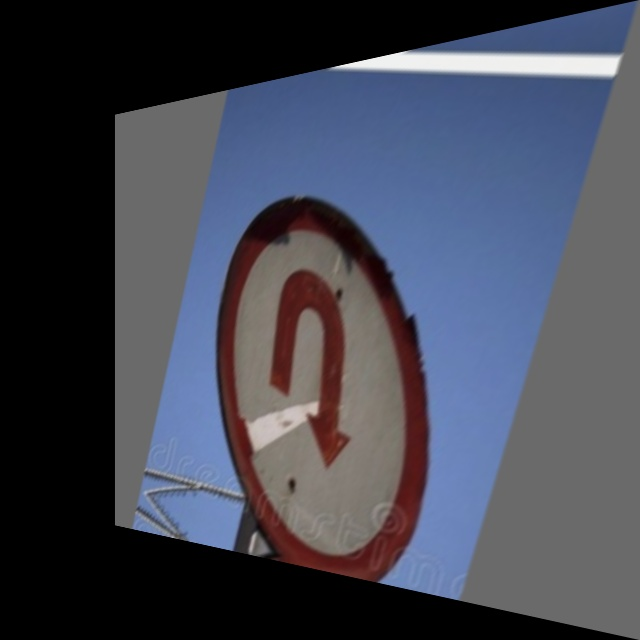U_Turn_Ahead: (183, 152, 509, 599)
